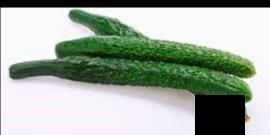cucumber: (70, 11, 253, 74), (7, 59, 249, 101)
